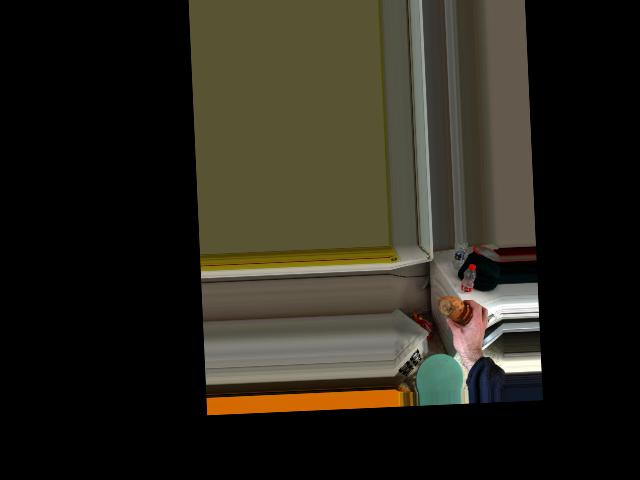sweet_potato: (438, 293, 470, 326)
